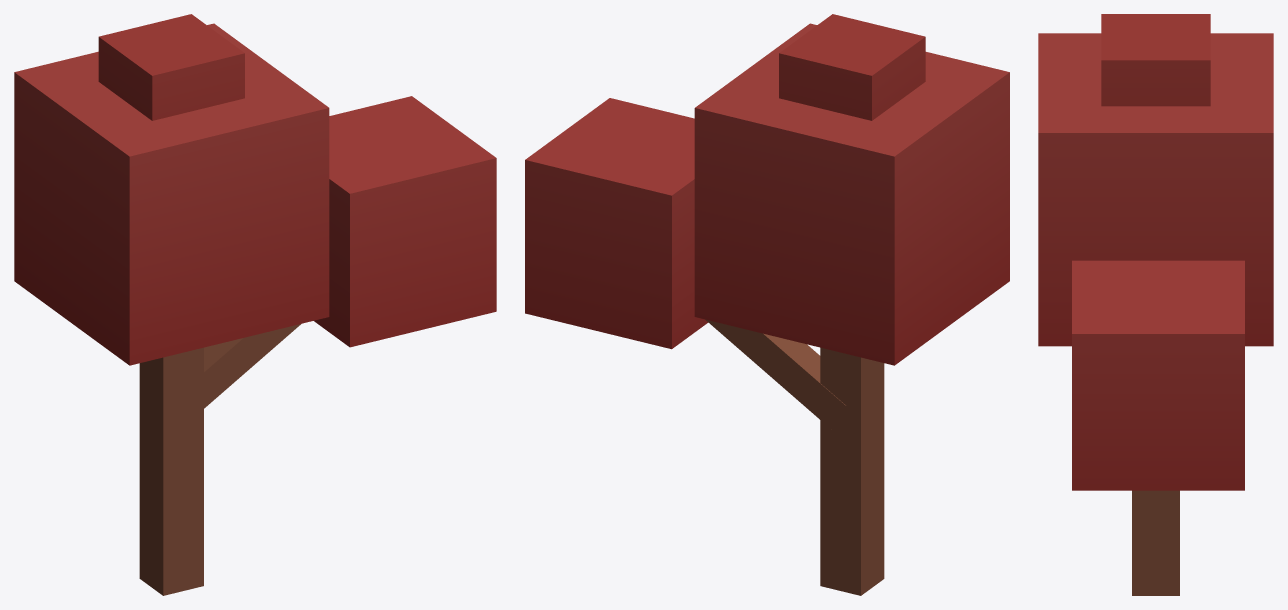
File: Tree_48_gradient_red_vc.fbx
The picture shows the model from 3 angles, left to right: view 1: azimuth 30°, elevation 25°; view 2: azimuth 150°, elevation 25°; view 3: azimuth 270°, elevation 25°; orthographic projection. The views are drawn at different scales.
Parts seen in each view (by area): view 1: Tree_48_gradient_red_vc; view 2: Tree_48_gradient_red_vc; view 3: Tree_48_gradient_red_vc.
Part boxes in pixels (<box>): Tree_48_gradient_red_vc: <box>14,14,496,595</box>; Tree_48_gradient_red_vc: <box>525,14,1009,595</box>; Tree_48_gradient_red_vc: <box>1038,14,1273,595</box>.
Bounding box in the file's own units: 140 × 187 × 72.7.
